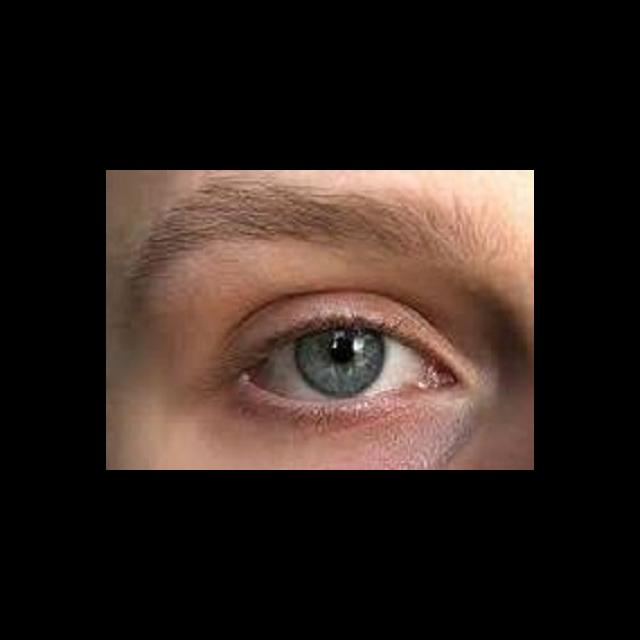eye: (253, 327, 428, 404)
iris: (298, 332, 383, 398)
